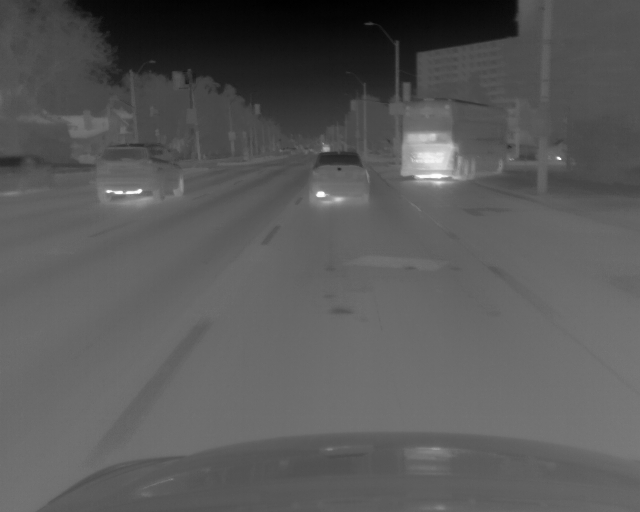car: (401, 100, 506, 184), (92, 143, 185, 207), (310, 150, 369, 208)
